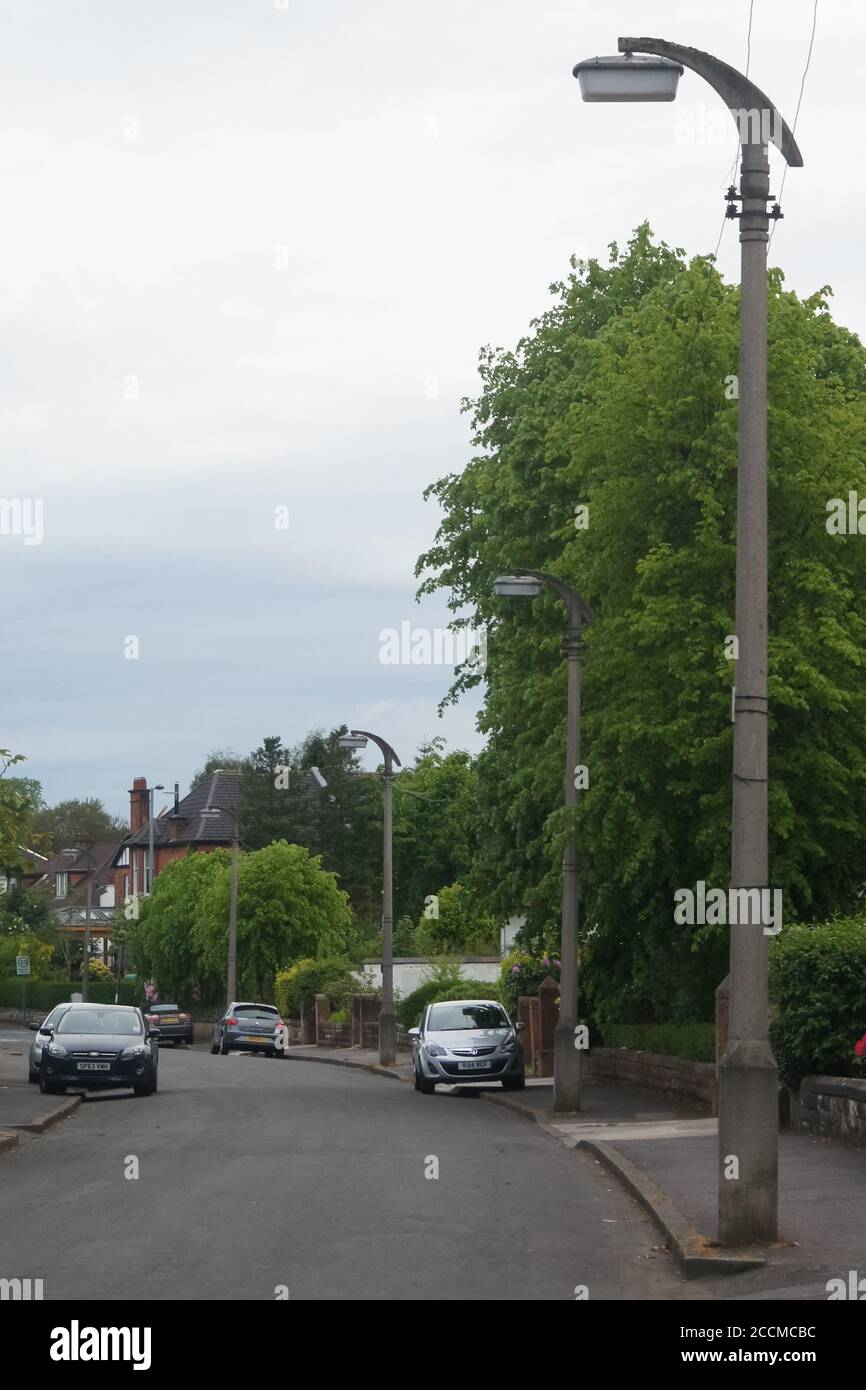light_pole: (564, 10, 817, 1283), (487, 554, 586, 1110), (352, 725, 397, 1089)
